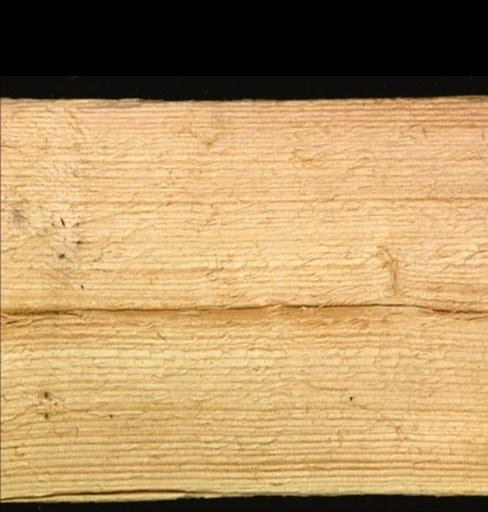small_knot: (372, 244, 401, 291)
split: (0, 303, 273, 317), (278, 301, 486, 315)
